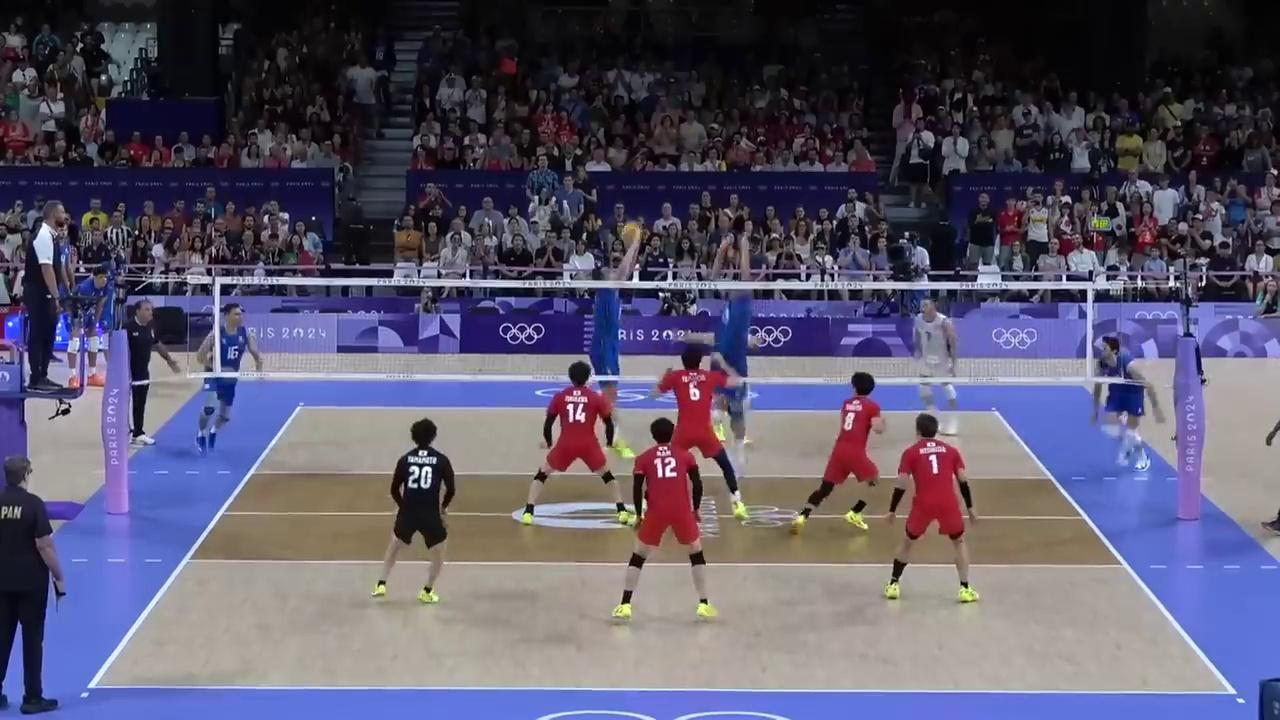ball: (620, 222, 638, 244)
